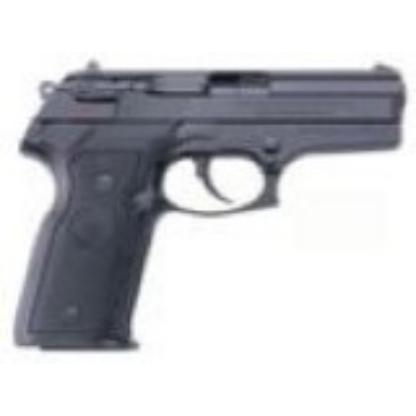gun: (18, 58, 406, 348)
